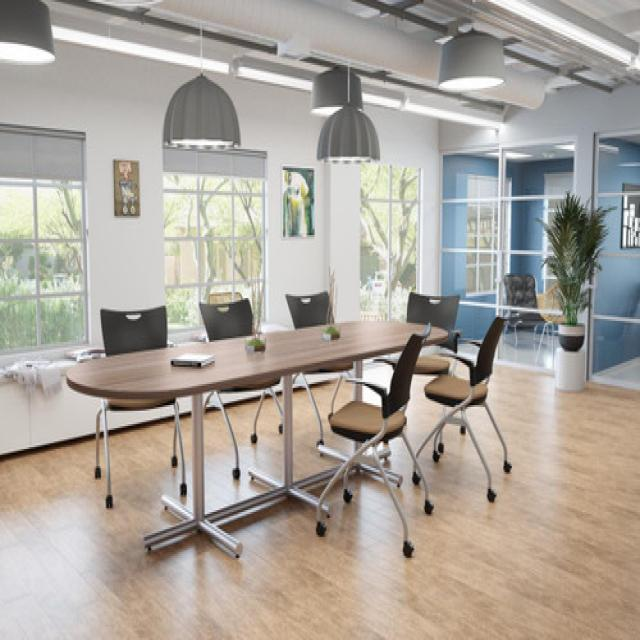chair: (315, 321, 431, 556), (93, 304, 187, 506), (412, 315, 511, 506), (197, 298, 284, 443), (502, 271, 552, 350)
